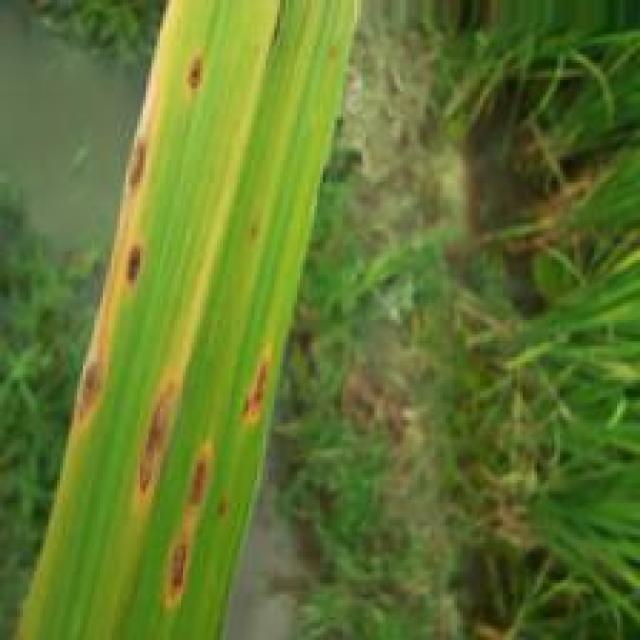Brown_Spot: (159, 436, 221, 611), (136, 369, 182, 512), (73, 329, 111, 440), (244, 342, 277, 425), (116, 236, 148, 317), (127, 128, 151, 197), (185, 54, 204, 94)
